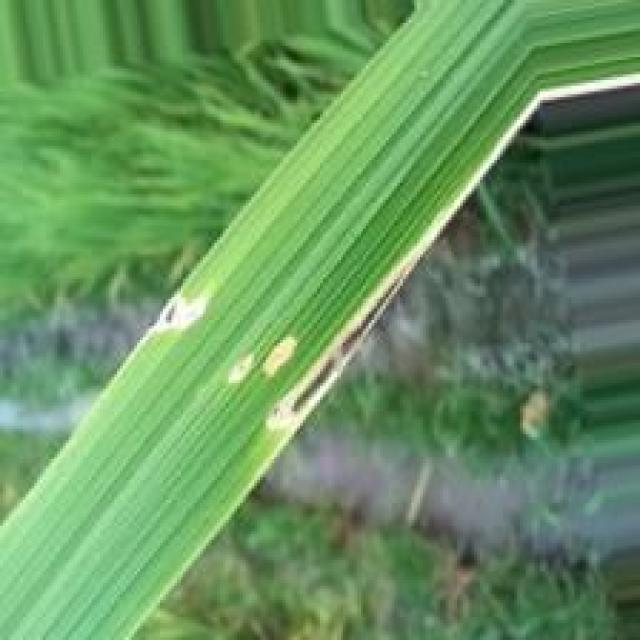Rice_Hispa: (251, 67, 640, 432), (149, 293, 213, 331), (264, 336, 305, 381)
